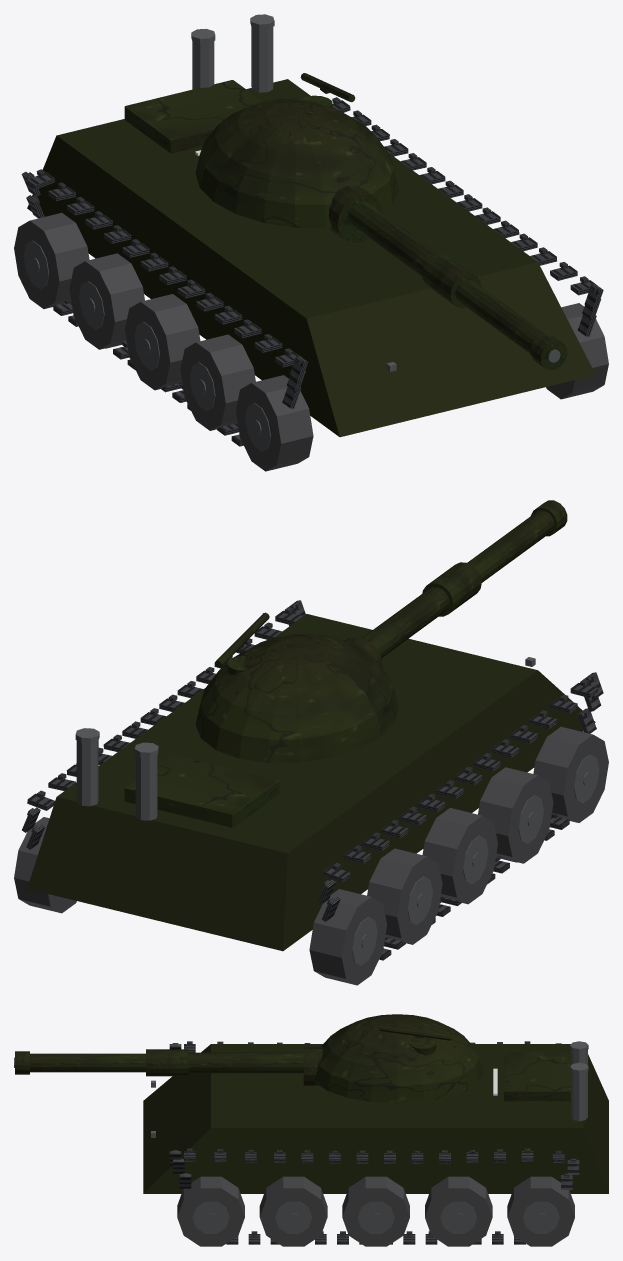
The model's file is jackal_LOD1.glb.
3 views of the same model, one above another, from view 1: azimuth 30°, elevation 25°; view 2: azimuth 150°, elevation 25°; view 3: azimuth 270°, elevation 25° (orthographic). The views are drawn at different scales.
Visible parts, largest first — view 1: HullMesh, Wheels_L, TurretMesh, TrackL, TrackR, Gun_tube1, Gun_tube2, Wheels_R, Gun_ext, exh1, exh-1, Gun_brk; view 2: HullMesh, Wheels_L, TurretMesh, TrackL, TrackR, Gun_tube1, Gun_tube2, Wheels_R, Gun_ext, exh-1, exh1; view 3: HullMesh, Wheels_R, TurretMesh, TrackR, Gun_tube1, Gun_tube2, Gun_ext, exh1, Gun_brk.
Boxes of the visible parts, x1,y1,x2,y2 form: HullMesh: [27, 79, 595, 437]; Wheels_L: [14, 213, 313, 471]; TurretMesh: [195, 73, 398, 242]; TrackL: [21, 169, 307, 446]; TrackR: [332, 97, 603, 336]; Gun_tube1: [348, 201, 437, 276]; Gun_tube2: [455, 280, 564, 366]; Wheels_R: [546, 303, 608, 399]; Gun_ext: [422, 254, 481, 308]; exh1: [251, 27, 273, 92]; exh-1: [192, 41, 214, 89]; Gun_brk: [530, 334, 567, 369]; HullMesh: [27, 614, 595, 951]; Wheels_L: [309, 726, 608, 985]; TurretMesh: [195, 612, 398, 762]; TrackL: [317, 672, 603, 960]; TrackR: [22, 600, 305, 849]; Gun_tube1: [362, 587, 449, 657]; Gun_tube2: [467, 510, 554, 582]; Wheels_R: [14, 817, 76, 913]; Gun_ext: [422, 562, 481, 616]; exh-1: [135, 755, 157, 820]; exh1: [76, 740, 98, 806]; HullMesh: [143, 1044, 608, 1193]; Wheels_R: [177, 1176, 574, 1246]; TurretMesh: [303, 1014, 483, 1103]; TrackR: [169, 1148, 579, 1244]; Gun_tube1: [188, 1052, 303, 1073]; Gun_tube2: [30, 1053, 145, 1072]; Gun_ext: [146, 1049, 188, 1076]; exh1: [571, 1071, 587, 1121]; Gun_brk: [15, 1051, 29, 1074].
Bounding box in the file's own units: 3.36 × 2.31 × 7.03.
Materials: 5 (3 with a texture image).
